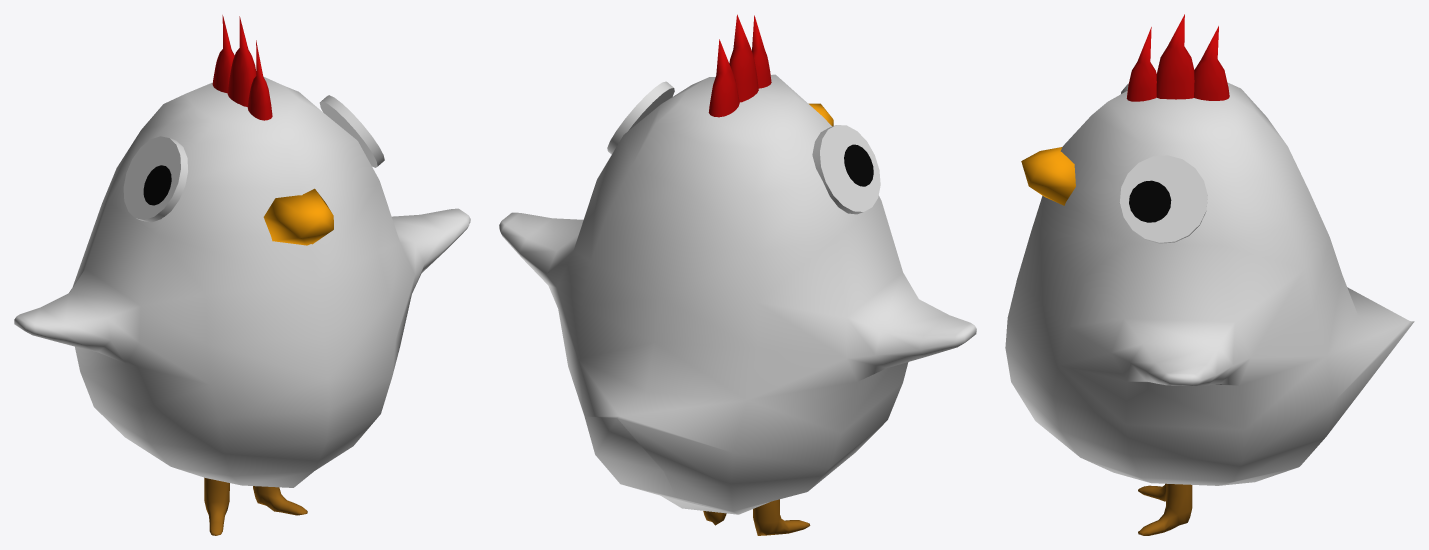
The model's file is SK_ChickenV0@Rooster.fbx.
3 renders of one model, left to right at view 1: azimuth 30°, elevation 25°; view 2: azimuth 150°, elevation 25°; view 3: azimuth 270°, elevation 25°, orthographic. The views are drawn at different scales.
Visible parts, largest first — view 1: body, eye1, comb, mouth, foot, eye2; view 2: body, eye1, comb, foot, eye2; view 3: body, comb, eye1, mouth, foot, eye2.
Boxes of the visible parts, box(x1,y1,x2,y2) form: body: box(14, 76, 470, 487); eye1: box(123, 95, 384, 222); comb: box(212, 15, 272, 120); mouth: box(263, 188, 333, 245); foot: box(204, 477, 307, 535); eye2: box(143, 165, 171, 205); body: box(499, 74, 976, 514); eye1: box(607, 81, 880, 214); comb: box(708, 14, 771, 117); foot: box(703, 499, 810, 535); eye2: box(844, 144, 873, 186); body: box(1005, 82, 1414, 485); comb: box(1126, 14, 1229, 101); eye1: box(1119, 83, 1207, 243); mouth: box(1021, 147, 1075, 205); foot: box(1138, 483, 1192, 535); eye2: box(1129, 180, 1171, 222).
Bounding box in the file's own units: 595 × 633 × 468.
